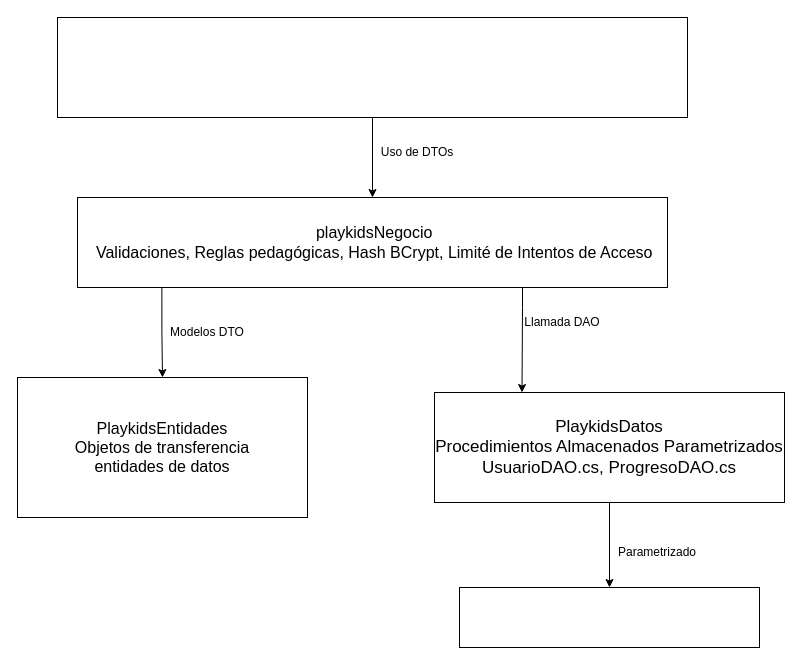
Image size: 802x665. Some labels were removed from this diagram. The box of each missing label's shape, as (x1, y1, x2, y2) in pixels:
Motor BD SQL Server (PlayKidsDB): (458, 586, 760, 648)
playkidsPresentacion Formularios de Interfaz gráfica (logind.cs, FrmJuego.cs): (56, 16, 688, 118)
